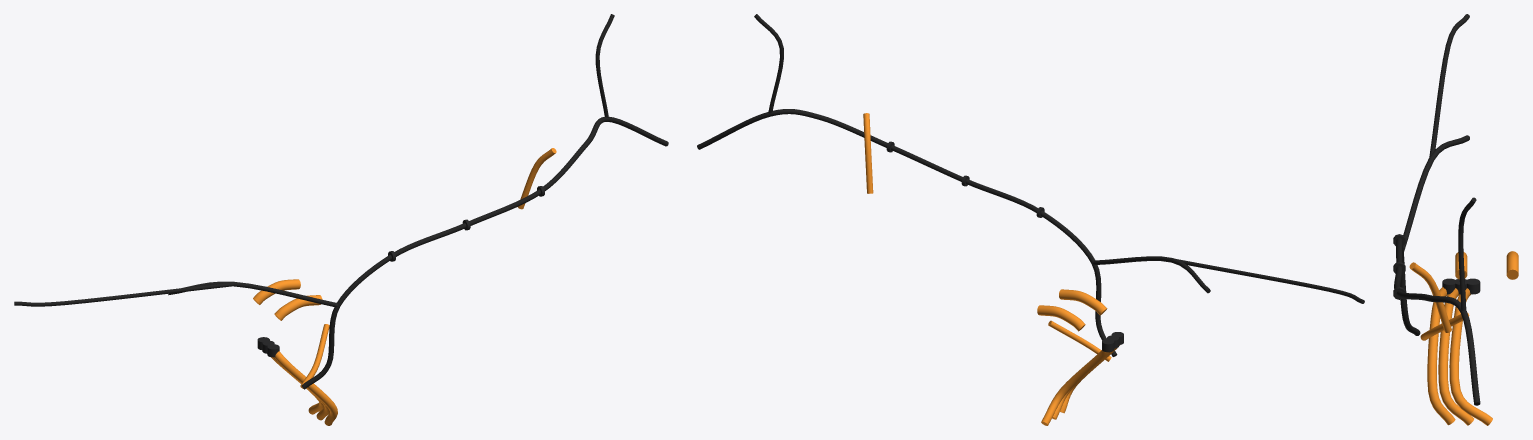
The model's file is bike_electric__wiring.glb.
3 views of the same model, side by side, from view 1: azimuth 30°, elevation 25°; view 2: azimuth 150°, elevation 25°; view 3: azimuth 270°, elevation 25° (orthographic). The views are drawn at different scales.
Visible parts, largest first — view 1: wiring__harness_lv, wiring__hv_cables, wiring__hv_cables__phase; view 2: wiring__harness_lv, wiring__hv_cables, wiring__hv_cables__phase; view 3: wiring__harness_lv, wiring__hv_cables__phase, wiring__hv_cables, wiring__hv_cables__glands, wiring__harness_lv__clips.
Boxes of the visible parts, box(x1,y1,x2,y2) form: wiring__harness_lv: box(14, 14, 668, 389); wiring__hv_cables: box(253, 148, 556, 388); wiring__hv_cables__phase: box(271, 351, 337, 425); wiring__harness_lv: box(697, 14, 1364, 356); wiring__hv_cables: box(863, 113, 1111, 361); wiring__hv_cables__phase: box(1041, 345, 1119, 425); wiring__harness_lv: box(1394, 14, 1480, 405); wiring__hv_cables__phase: box(1427, 287, 1492, 425); wiring__hv_cables: box(1409, 251, 1518, 340); wiring__hv_cables__glands: box(1442, 278, 1480, 294); wiring__harness_lv__clips: box(1393, 234, 1405, 299).
Size of the model in its own units: 141 by 68.39 by 19.48.
